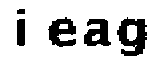a: (85, 17, 112, 50)
e: (46, 15, 79, 52)
g: (116, 19, 153, 60)
i: (7, 4, 30, 52)
